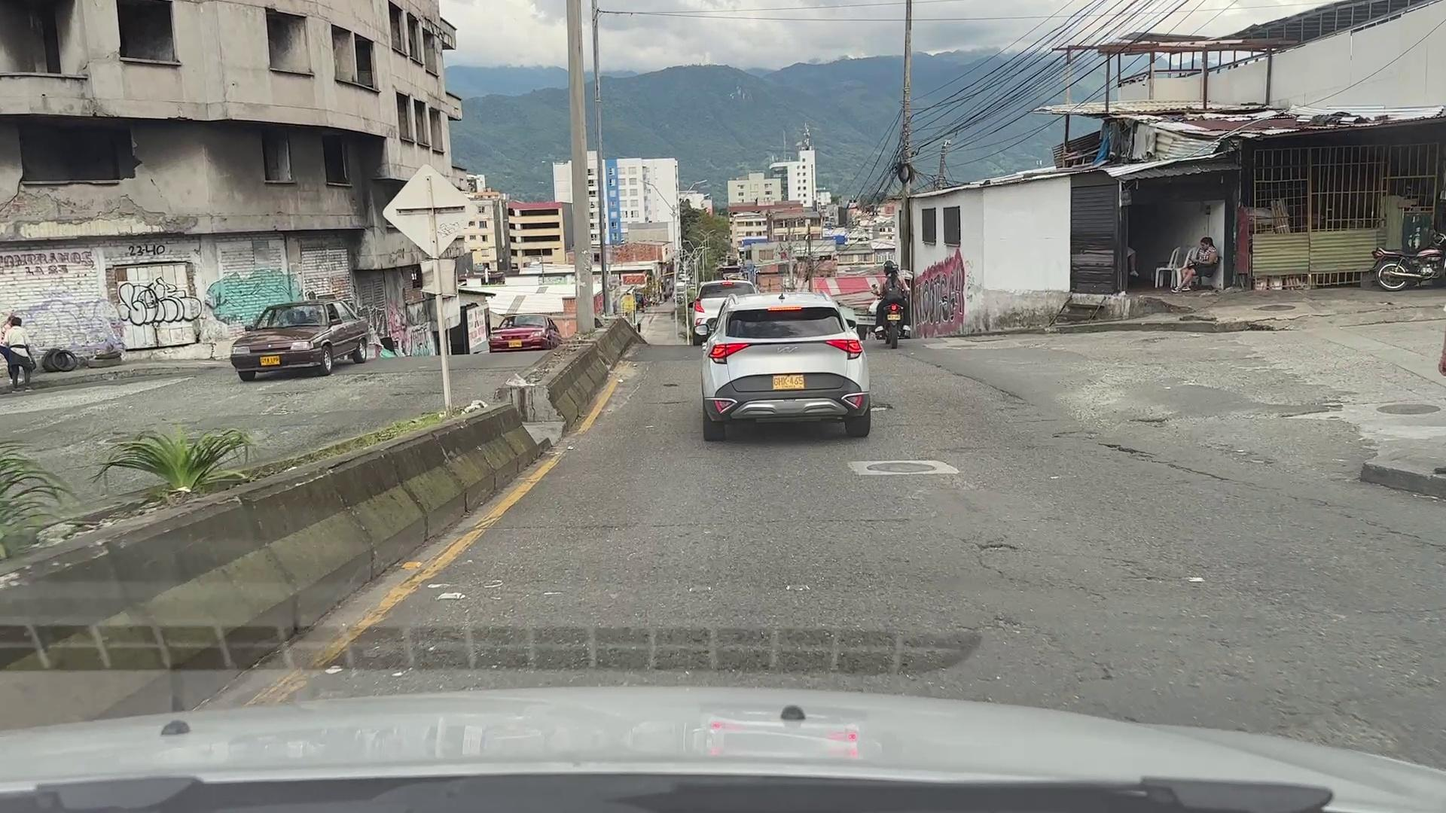bache: (1131, 416, 1168, 427), (979, 543, 1012, 548), (871, 406, 889, 411), (664, 384, 677, 386)
grieta: (1099, 443, 1229, 480)
registro: (867, 462, 935, 473), (1378, 404, 1440, 414)
